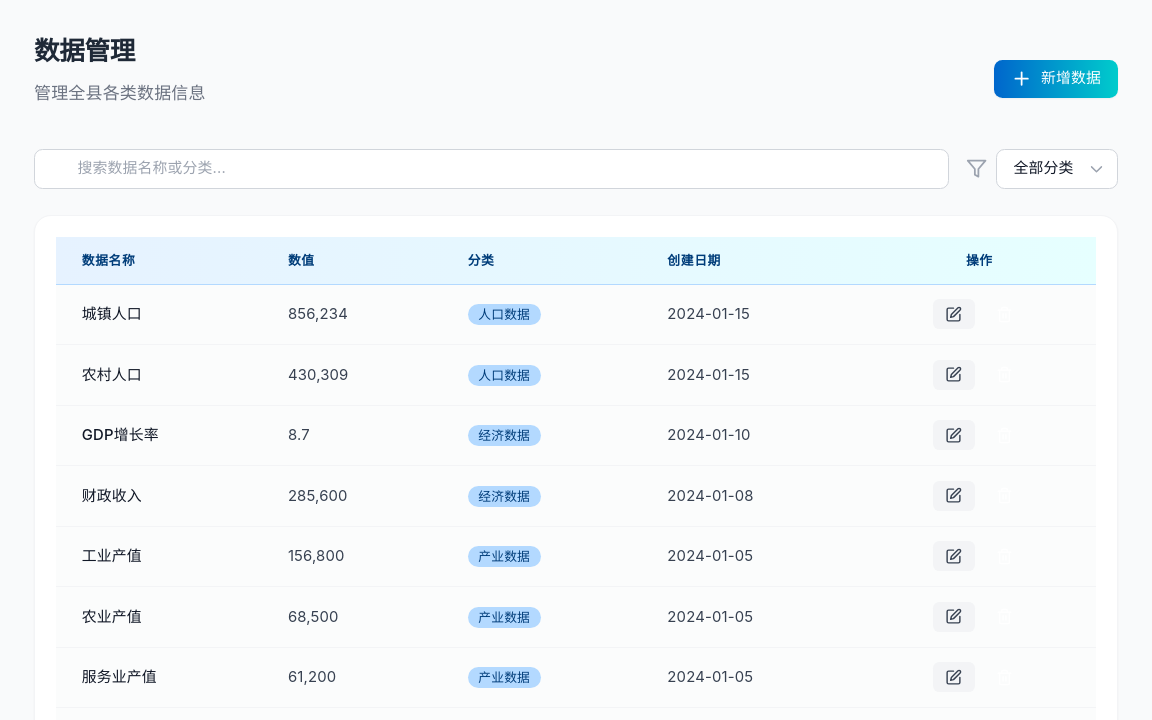
Test: DataManagement Page › opens add modal when "新增数据" button is clicked
Click the button "新增数据": (1056, 79) [994,60,1118,98]
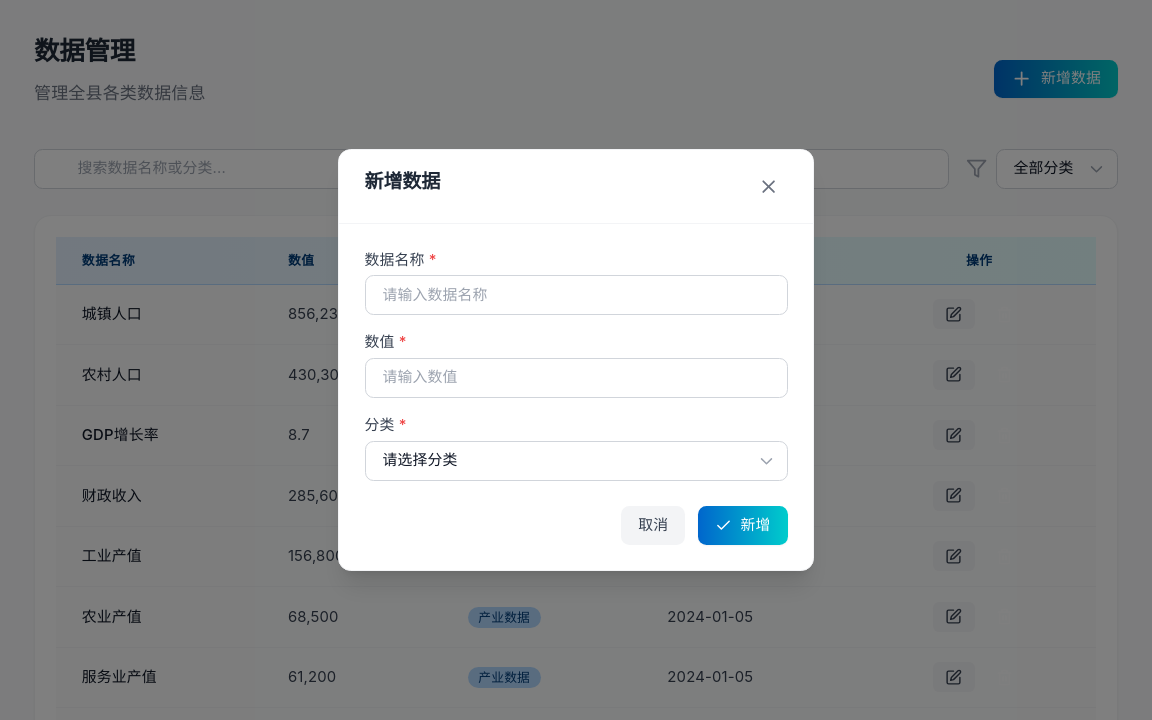
Expected: the number of buttons "新增数据" is 2, [994,60,1118,98]; [364,167,440,197]
